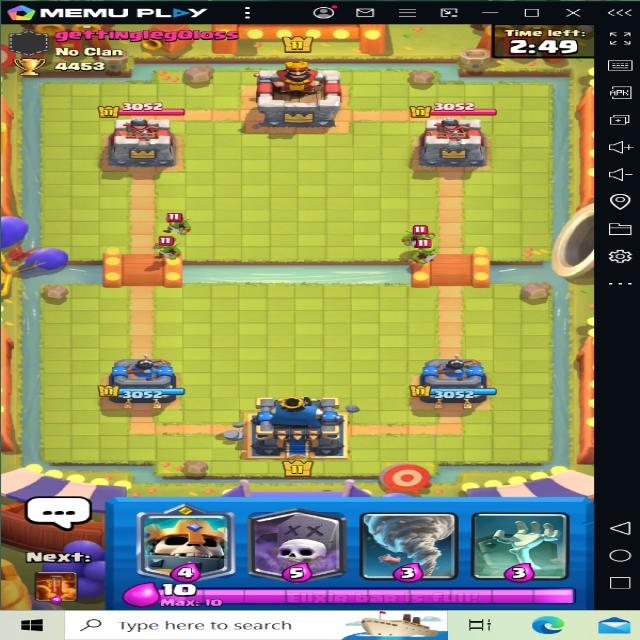Goblin: (411, 238, 459, 274), (150, 238, 190, 264), (162, 213, 202, 235), (395, 216, 431, 240)
